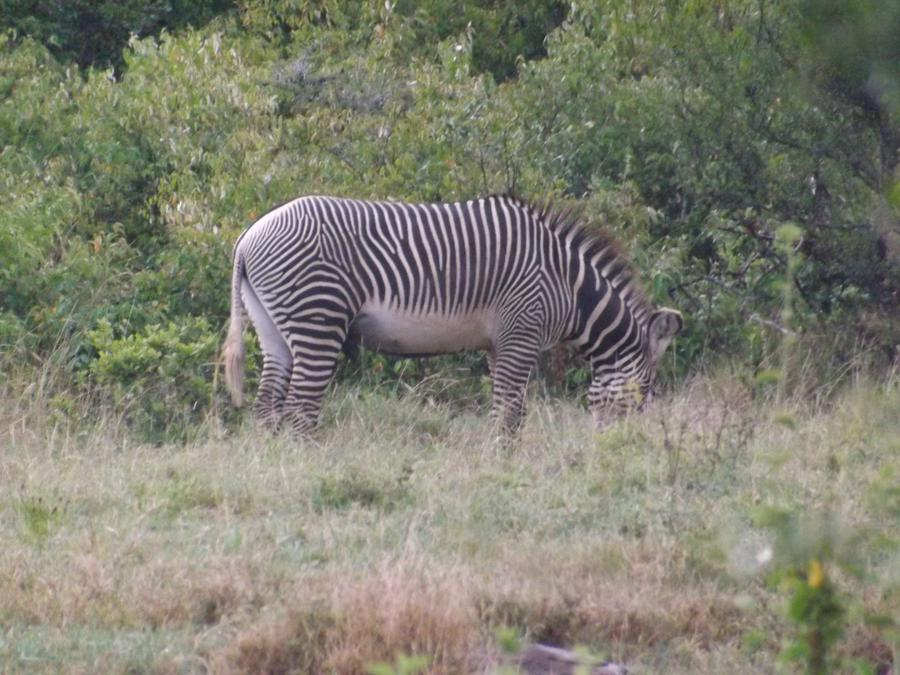zebra_grevys: (242, 201, 544, 348)
